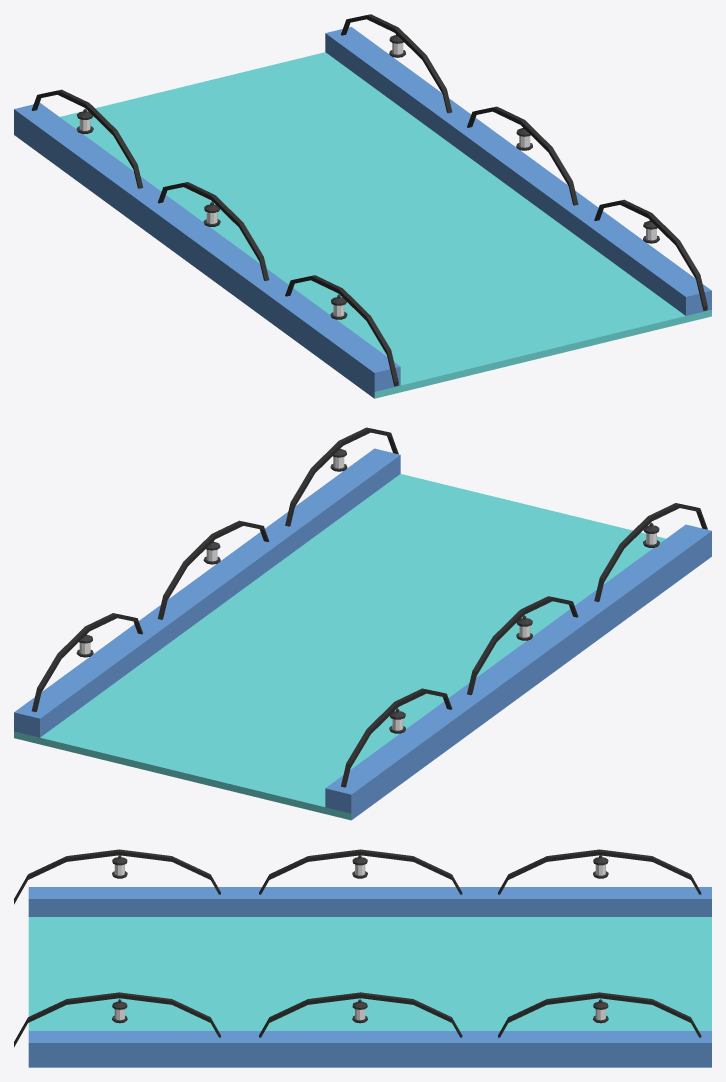
File: Path_0.1.fbx
3 renders of one model, top to bottom at view 1: azimuth 30°, elevation 25°; view 2: azimuth 150°, elevation 25°; view 3: azimuth 270°, elevation 25°, orthographic. The views are drawn at different scales.
Parts seen in each view (by area): view 1: Path; view 2: Path; view 3: Path.
Boxes of the visible parts, x1,y1,x2,y2 form: Path: (14,14,711,398); Path: (14,427,711,820); Path: (14,849,711,1067).
Bounding box in the file's own units: 675 × 136 × 1276.
